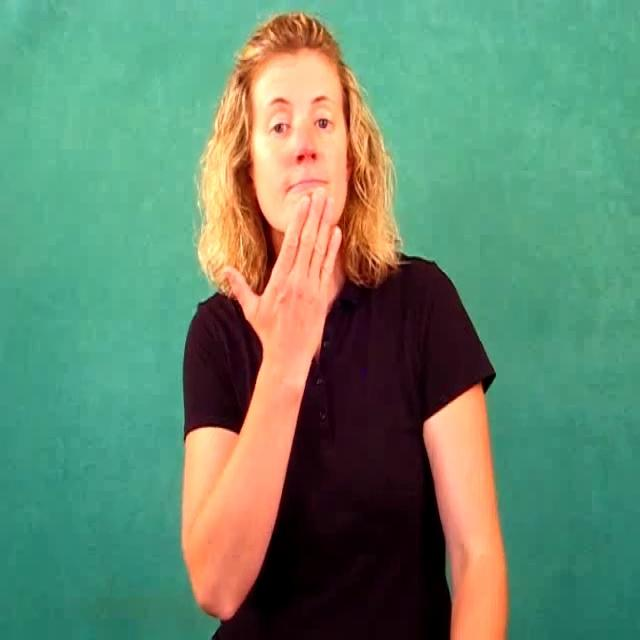thankyou: (228, 85, 348, 383)
